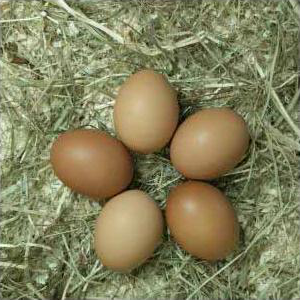egg: (164, 181, 240, 262), (93, 189, 165, 274), (51, 128, 135, 199), (169, 108, 250, 180), (114, 70, 180, 153)
